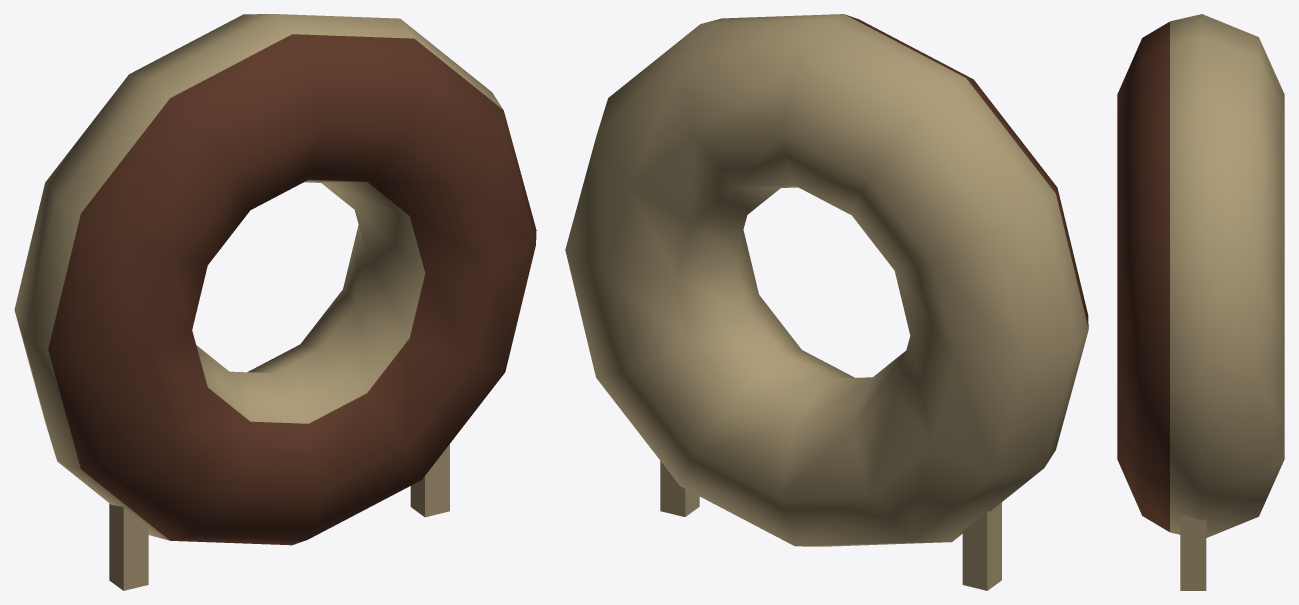
The model's file is store-donut.fbx.
The picture shows the model from 3 angles, left to right: view 1: azimuth 30°, elevation 25°; view 2: azimuth 150°, elevation 25°; view 3: azimuth 270°, elevation 25°; orthographic projection. The views are drawn at different scales.
Parts seen in each view (by area): view 1: Torus.001; view 2: Torus.001; view 3: Torus.001.
Boxes of the visible parts, bbox=[...] form: Torus.001: bbox=[14, 14, 536, 590]; Torus.001: bbox=[565, 14, 1088, 590]; Torus.001: bbox=[1117, 14, 1284, 590].
Size of the model in its own units: 705 by 708 by 223.
